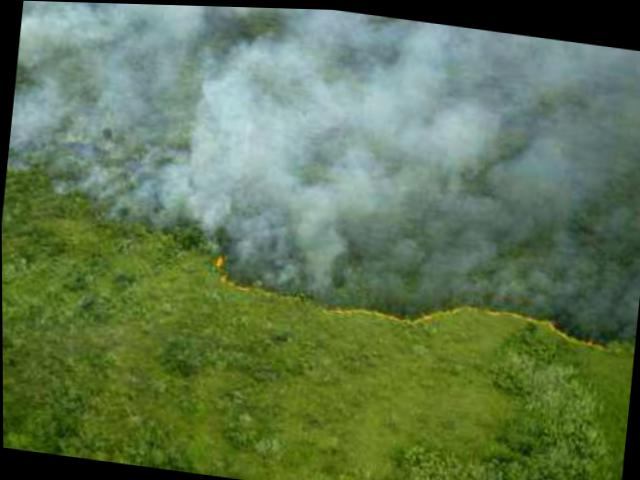fire: (208, 253, 629, 352)
